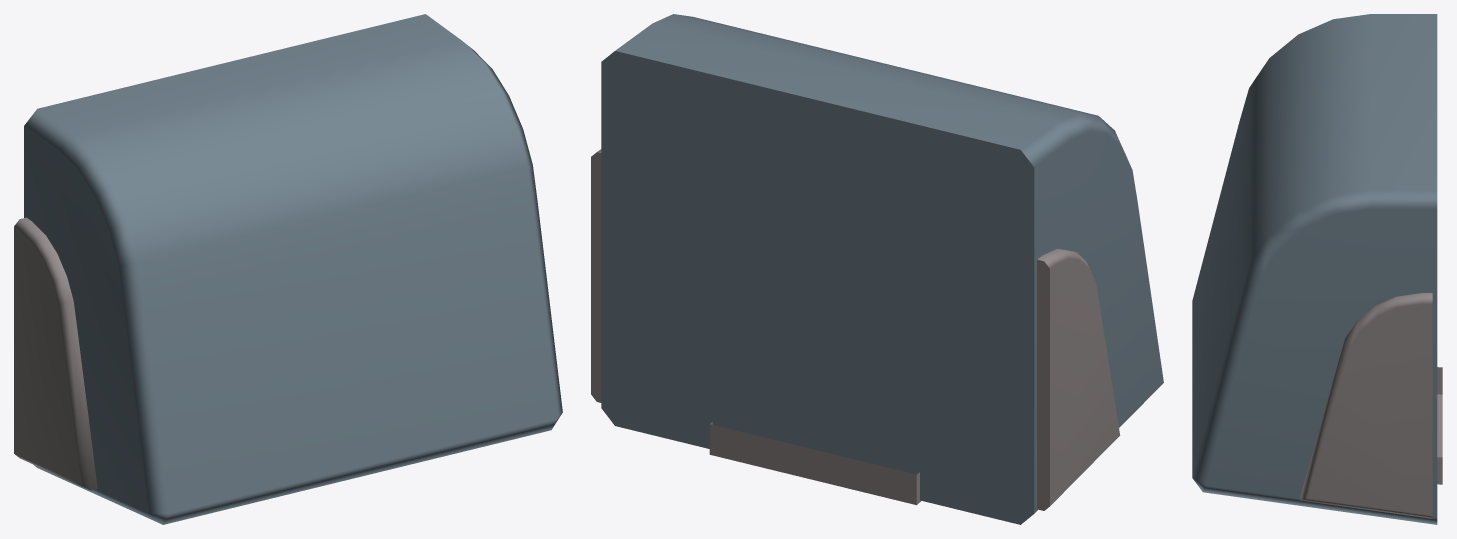
The model's file is hand_dryer.fbx.
3 renders of one model, left to right at view 1: azimuth 30°, elevation 25°; view 2: azimuth 150°, elevation 25°; view 3: azimuth 270°, elevation 25°, orthographic. The views are drawn at different scales.
Visible parts, largest first — view 1: hand_dryer; view 2: hand_dryer; view 3: hand_dryer.
Part boxes in pixels (x1,y1,x2,y2): hand_dryer: [14, 14, 562, 524]; hand_dryer: [591, 14, 1163, 524]; hand_dryer: [1192, 14, 1442, 524].
Size of the model in its own units: 49.14 by 38.64 by 26.05.
